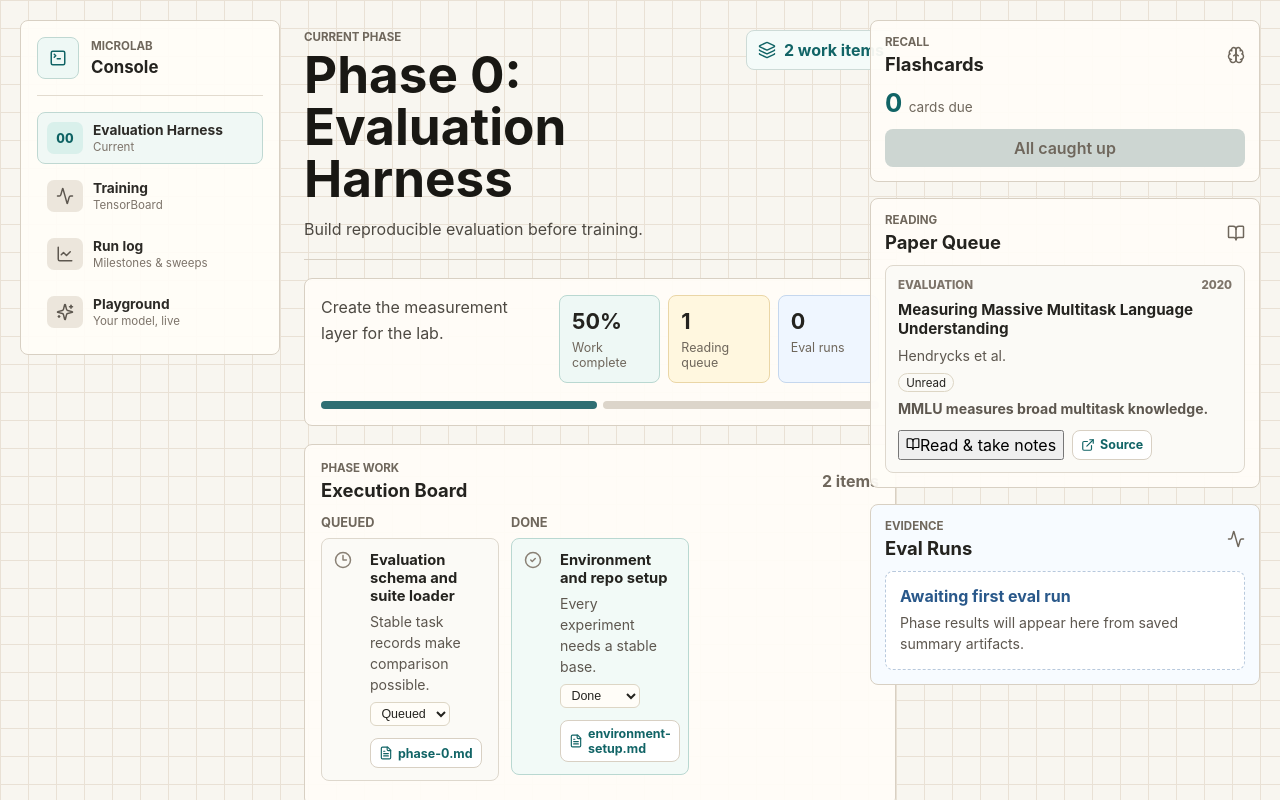
Test: App › shows a dropped-turns indicator when the server trims the conversation
The image size is (1280, 800).
Step 1. Click the button "Playground Your model, live" → (150, 312), box [37, 286, 263, 338]
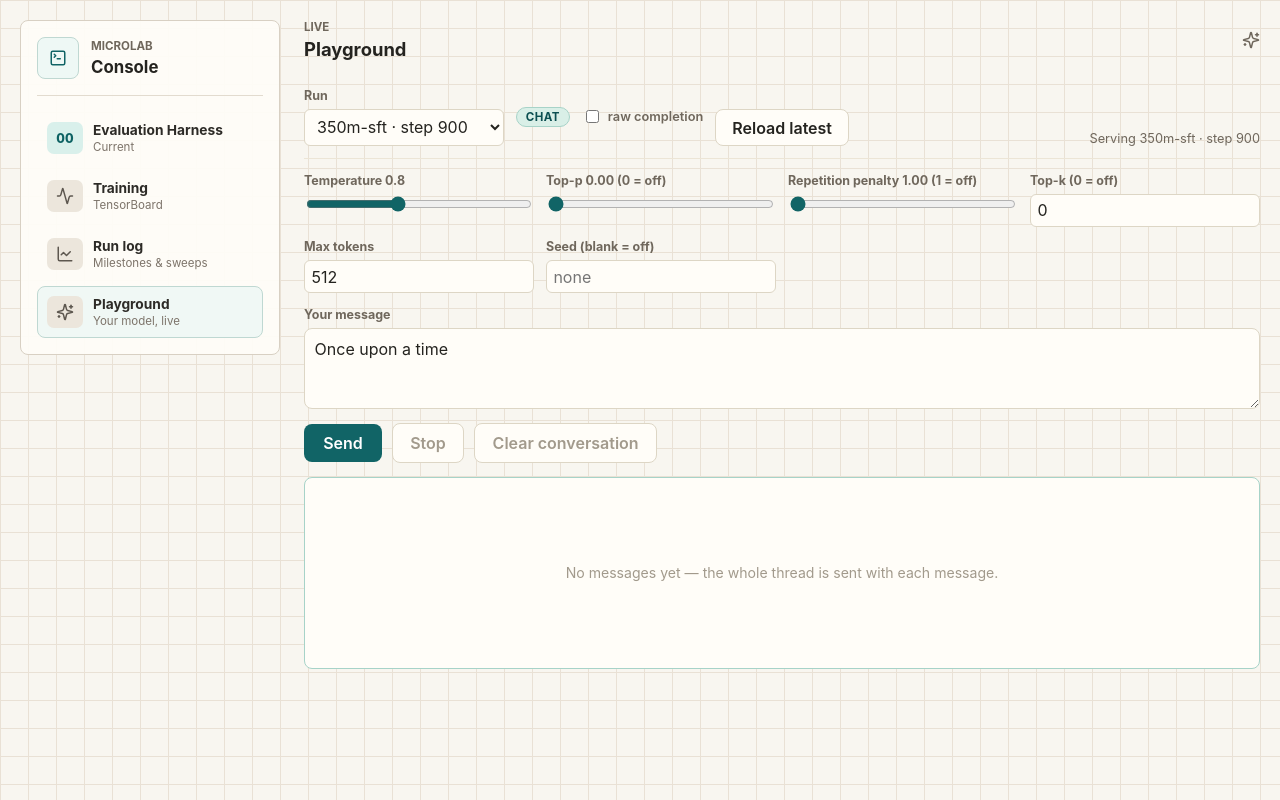
Expected: the text "dropped the oldest" is not shown
Now the dropdown named "run to serve" shows "350m-sft · step 900", box [304, 109, 504, 146]
Step 2. Replace the text in the text box labelled "Your message" with "hello" → (782, 369), box [304, 328, 1260, 409]
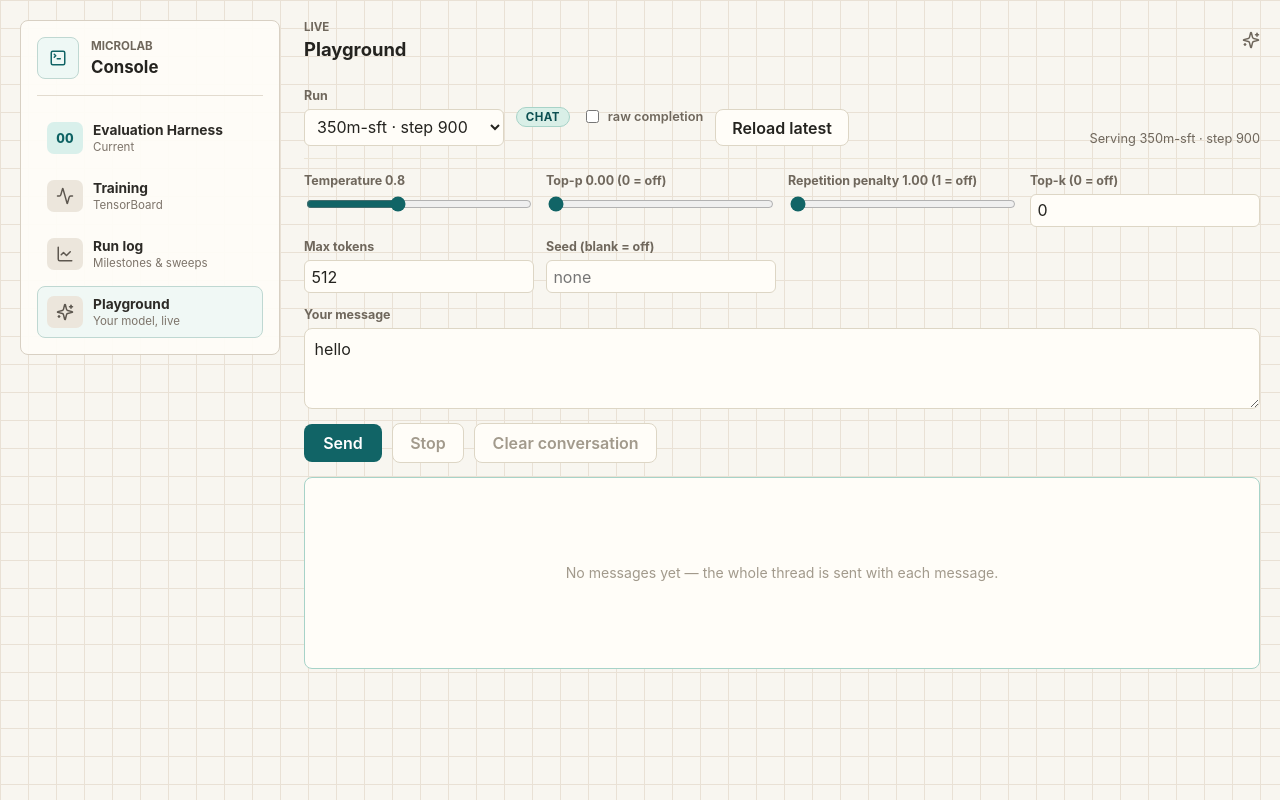
Step 3. Click the button "Send" → (343, 443), box [304, 424, 382, 462]
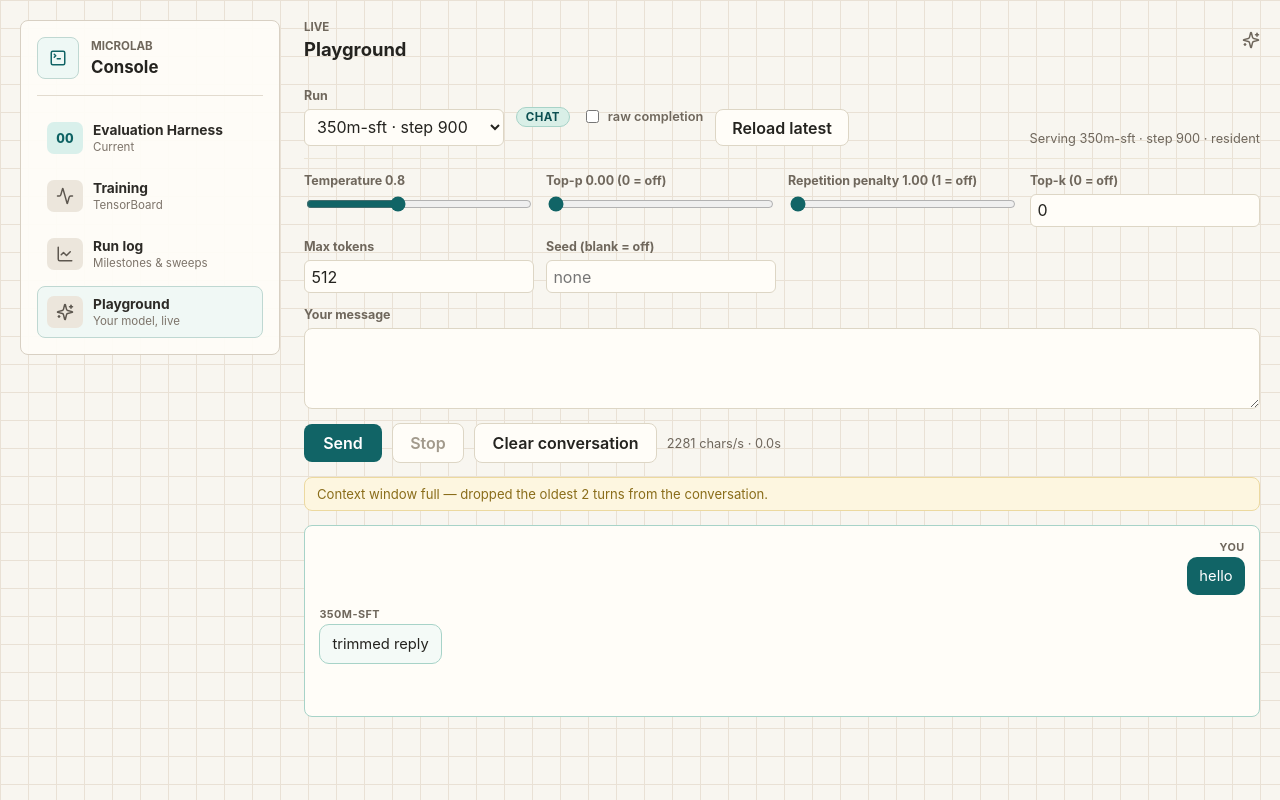
Now the button "Send" is enabled, box [304, 424, 382, 462]
Now the text "Context window full — dropped the oldest 2 turns from the conversation." is shown, box [304, 477, 1260, 511]
